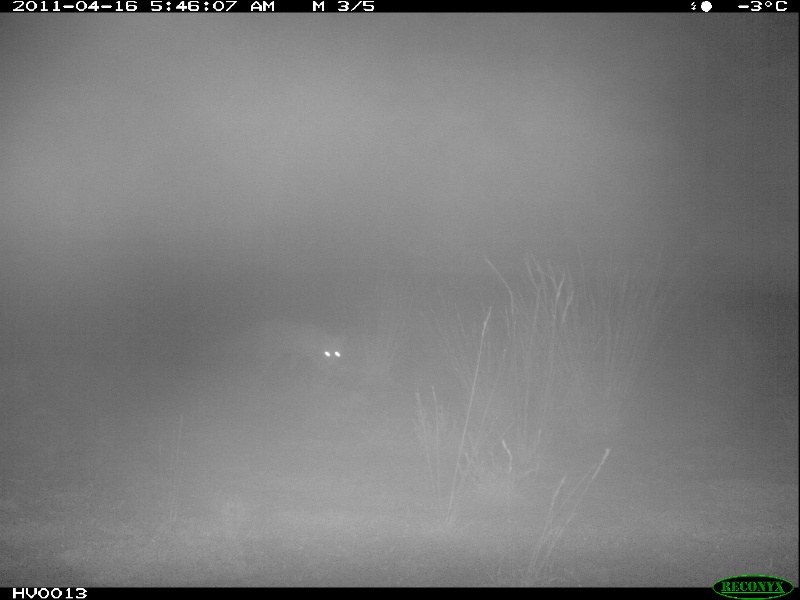fox: (223, 313, 361, 390)
